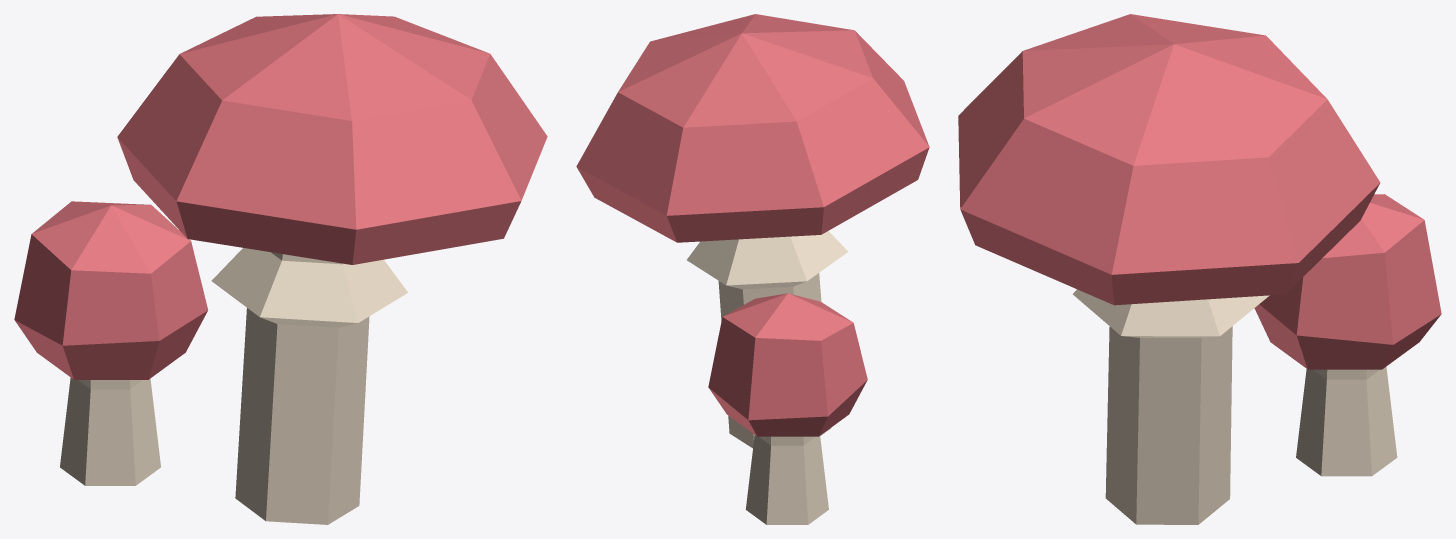
Rendered from mushroom-toadstool.glb.
3 renders of one model, left to right at view 1: azimuth 30°, elevation 25°; view 2: azimuth 150°, elevation 25°; view 3: azimuth 270°, elevation 25°, orthographic. The views are drawn at different scales.
Visible parts, largest first — view 1: mushroom_toadstool; view 2: mushroom_toadstool; view 3: mushroom_toadstool.
Part boxes in pixels (box(x1,y1,x2,y2)): mushroom_toadstool: box(14, 14, 547, 524); mushroom_toadstool: box(576, 14, 929, 524); mushroom_toadstool: box(958, 14, 1441, 524).
Size of the model in its own units: 53.6 by 62.85 by 57.06.
